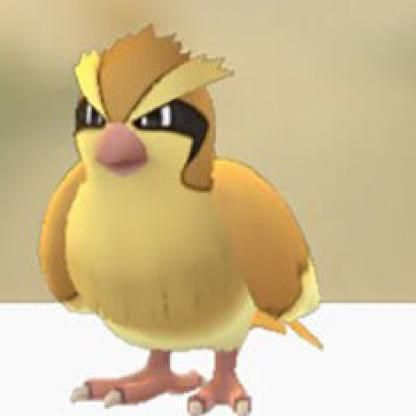Pidgey: (40, 19, 336, 415)
